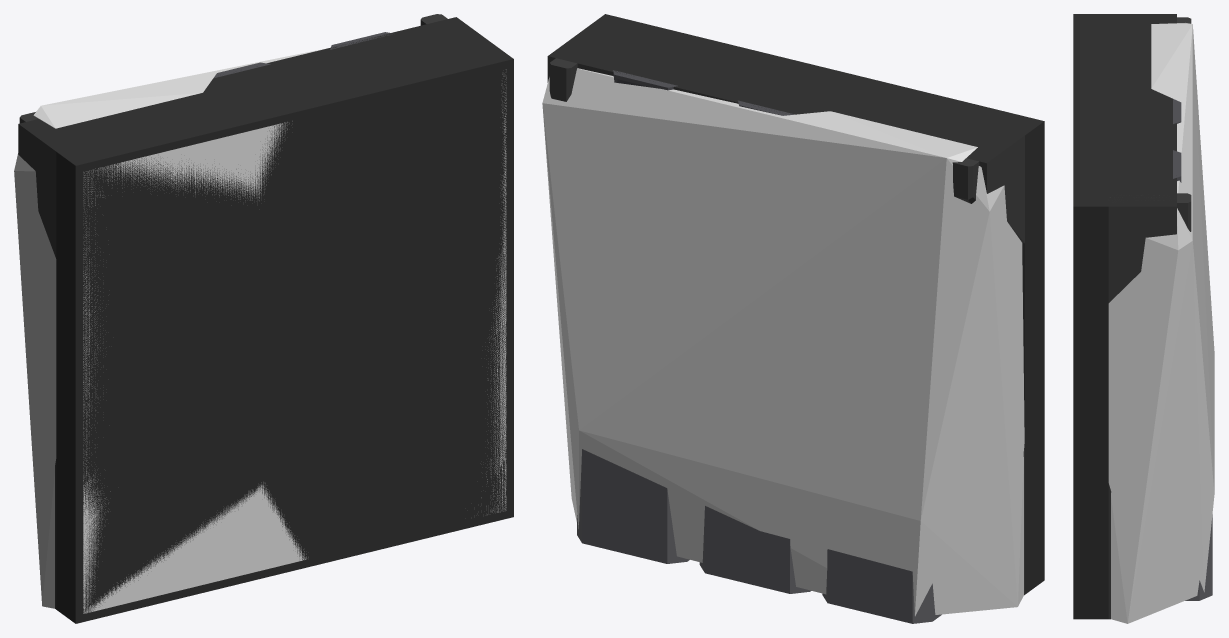
Rendered from SM_Bld_Wall_Pods_01.fbx.
3 renders of one model, left to right at view 1: azimuth 30°, elevation 25°; view 2: azimuth 150°, elevation 25°; view 3: azimuth 270°, elevation 25°, orthographic. The views are drawn at different scales.
Visible parts, largest first — view 1: SM_Bld_Wall_Pods_01_LOD0, SM_Bld_Wall_Pods_01_ConvexHulls; view 2: SM_Bld_Wall_Pods_01_ConvexHulls, SM_Bld_Wall_Pods_01_LOD0; view 3: SM_Bld_Wall_Pods_01_ConvexHulls, SM_Bld_Wall_Pods_01_LOD0.
Part boxes in pixels (x1,y1,x2,y2): SM_Bld_Wall_Pods_01_LOD0: (18,14,513,623); SM_Bld_Wall_Pods_01_ConvexHulls: (14,48,506,613); SM_Bld_Wall_Pods_01_ConvexHulls: (542,68,1024,616); SM_Bld_Wall_Pods_01_LOD0: (547,14,1044,623); SM_Bld_Wall_Pods_01_ConvexHulls: (1108,23,1214,623); SM_Bld_Wall_Pods_01_LOD0: (1073,14,1212,619).
Size of the model in its own units: 155 by 508 by 508.
Materials: 1 (1 with a texture image).
